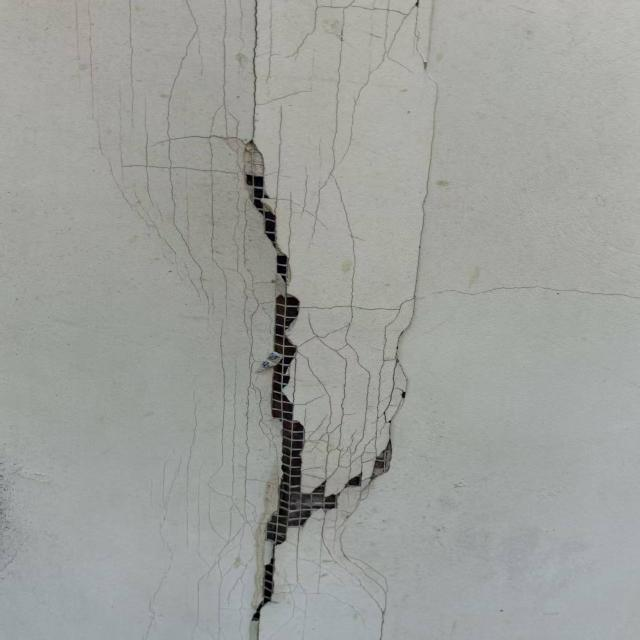crack: (423, 285, 640, 303)
hollowing: (75, 1, 429, 639)
spalling: (239, 139, 405, 634)
